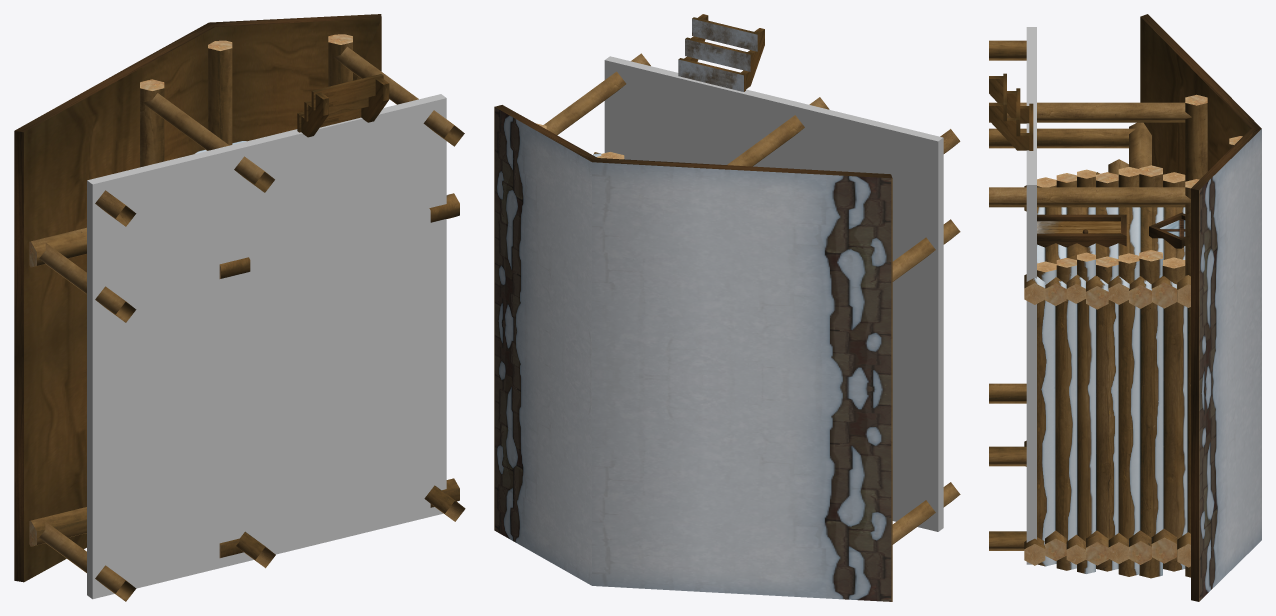
File: Log_House_E.fbx
The picture shows the model from 3 angles, left to right: view 1: azimuth 30°, elevation 25°; view 2: azimuth 150°, elevation 25°; view 3: azimuth 270°, elevation 25°; orthographic projection. The views are drawn at different scales.
Parts seen in each view (by area): view 1: Log_House_E; view 2: Log_House_E; view 3: Log_House_E.
Part boxes in pixels (x1,y1,x2,y2): Log_House_E: (14,14,465,601); Log_House_E: (494,14,960,601); Log_House_E: (989,14,1261,601).
Size of the model in its own units: 112 by 134 by 73.29.
